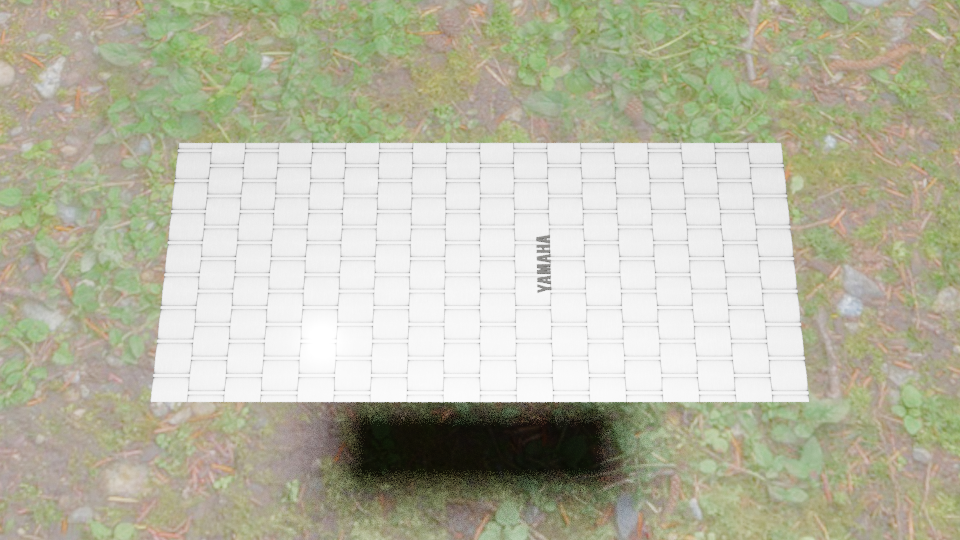yamaha_letters: (535, 233, 552, 293)
